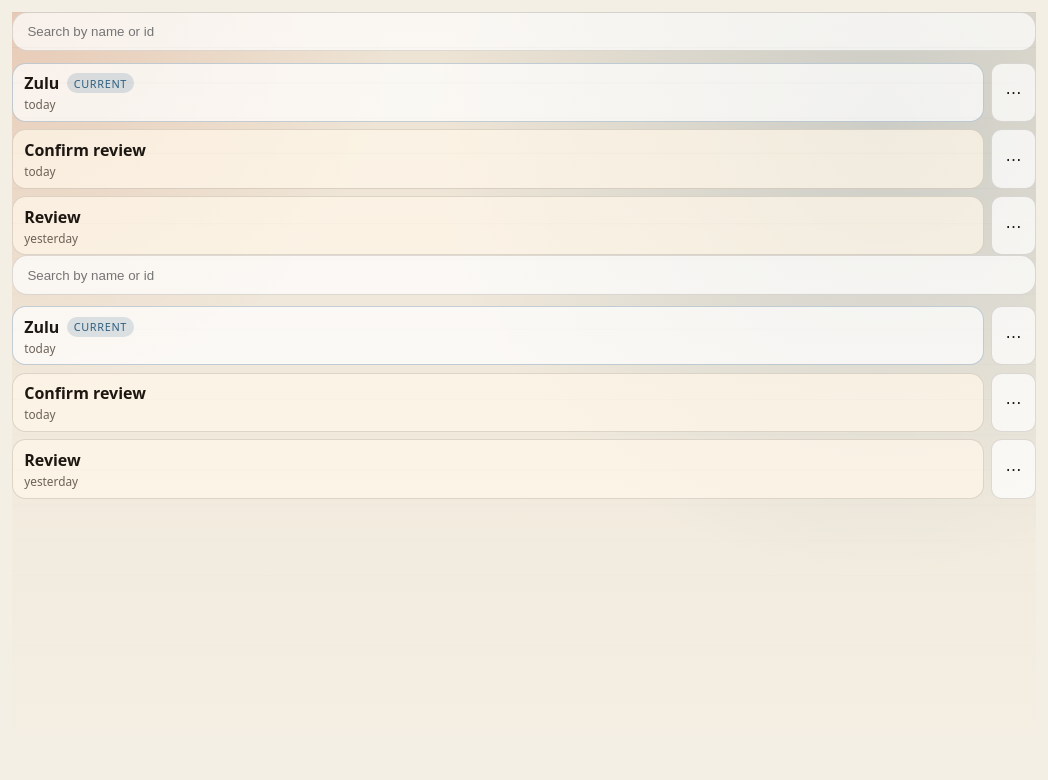
Scenario: WorkspacesPanel › keeps row and confirmation description ids distinct when a workspace id starts with confirm-
This screenshot has width=1048, height=780.
Step 1. Click the button named "Actions for workspace Review" → (1013, 226), box [991, 196, 1036, 255]
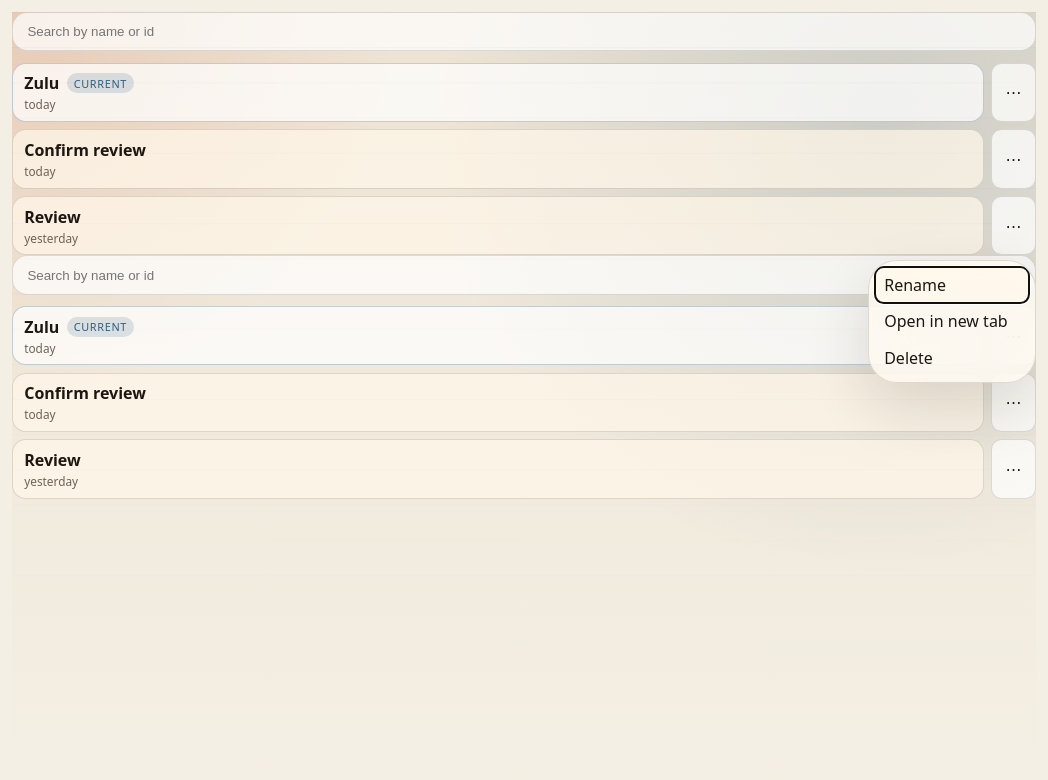
Step 2. Click the menu item with aria-label "Delete workspace Review" → (952, 358), box [875, 340, 1029, 376]
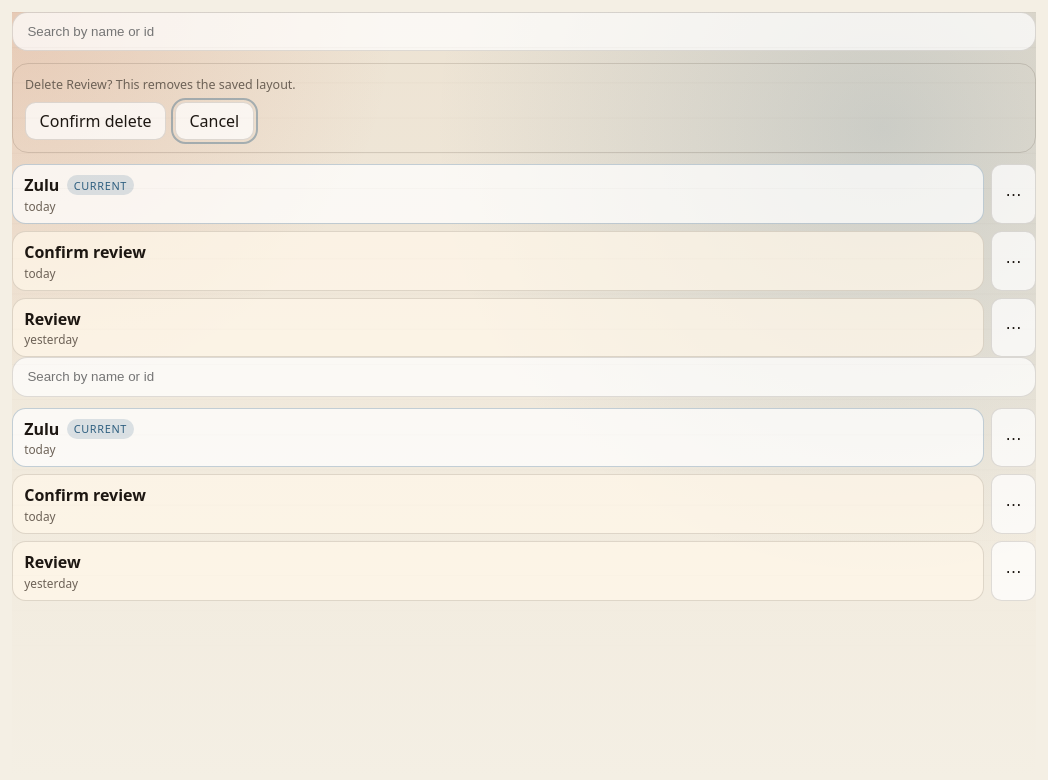
Check: the text "Delete Review? This removes the saved layout." is shown, box [25, 76, 296, 93]
